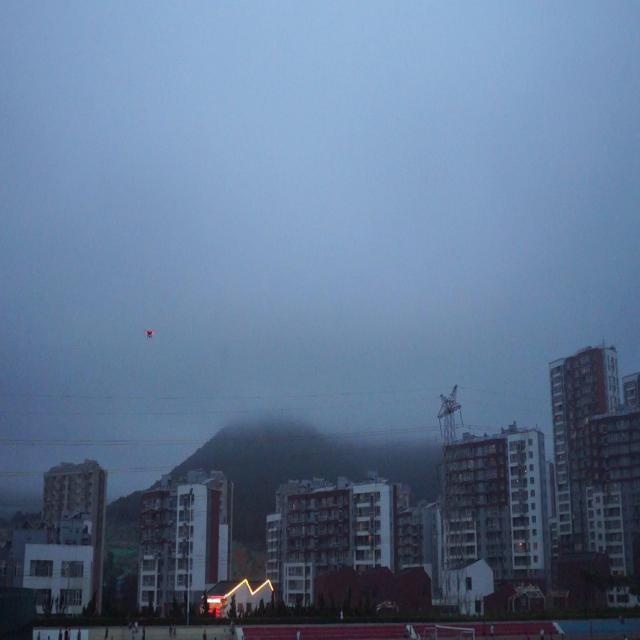UAV: (144, 329, 155, 339)
